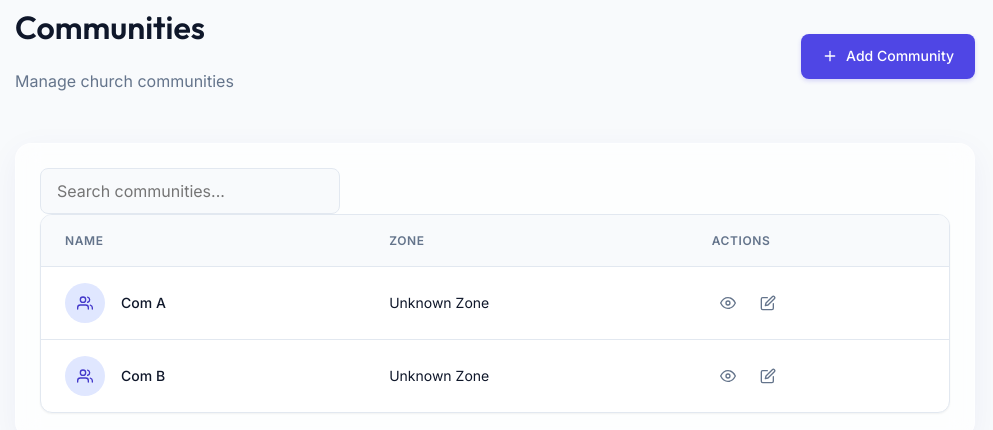
CommunitiesList.vue › filters communities by search query with debounce
This screenshot has width=993, height=430.
Trigger search
Type "Com A" into the field with placeholder "Search communities..." at x=190, y=191, box 40,168 -> 340,214
Wait 300 ms
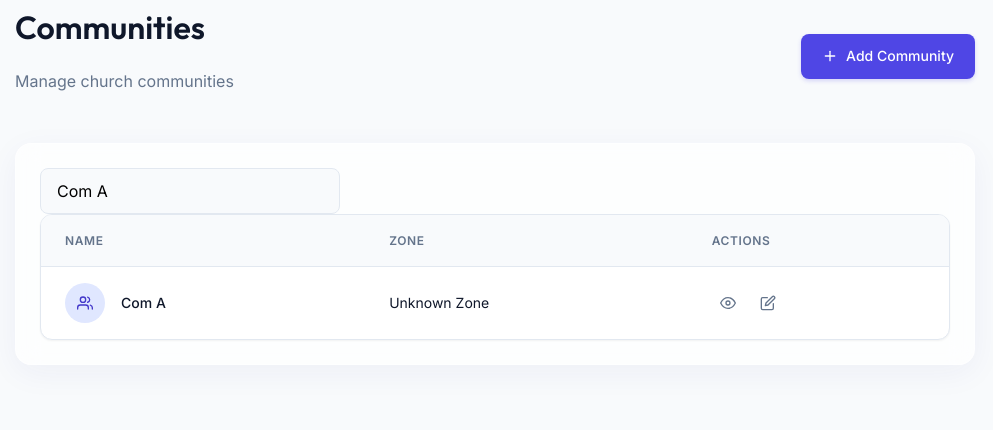
Expected: the text "Com A" is shown, 121,292 -> 166,314
Expected: the text "Com B" is gone
